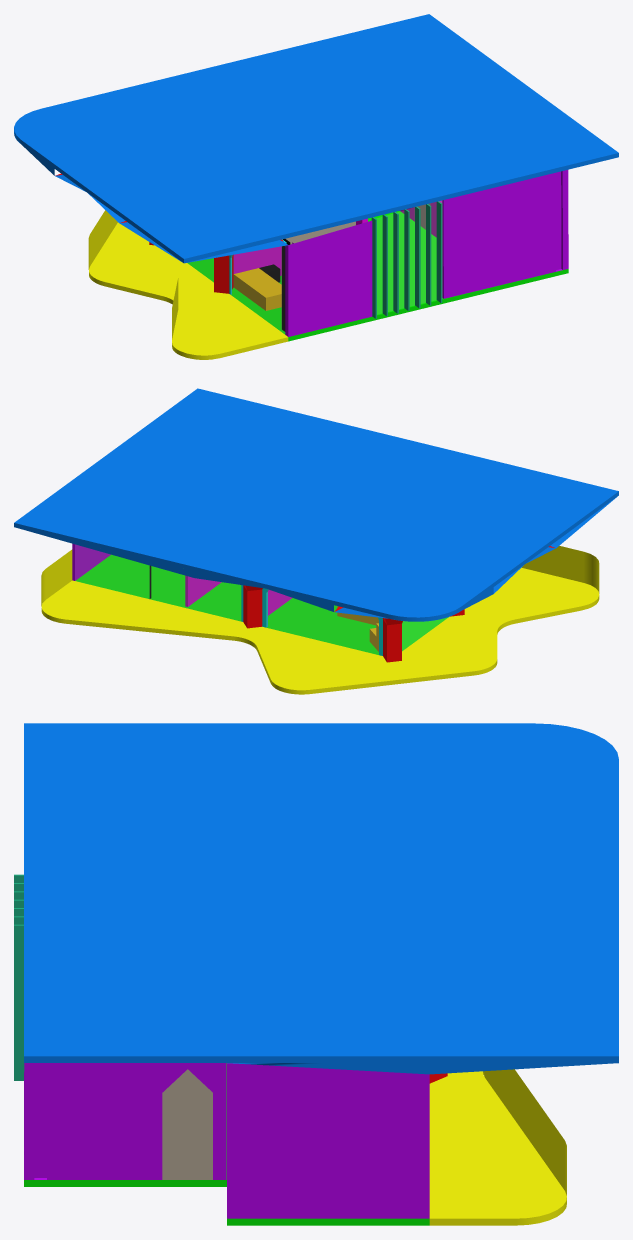
Rendered from ROOM5.glb.
3 renders of one model, top to bottom at view 1: azimuth 30°, elevation 25°; view 2: azimuth 150°, elevation 25°; view 3: azimuth 270°, elevation 25°, orthographic. The views are drawn at different scales.
Parts seen in each view (by area): view 1: top slabs, external walls, balconies, glasses, floors, FINS, internal walls, furniture, columns; view 2: top slabs, balconies, glasses, floors, columns, internal walls, external walls, furniture; view 3: top slabs, external walls, balconies, DOORS, floors, FINS.
Boxes of the visible parts, box(x1,y1,x2,y2) form: top slabs: box(14, 14, 618, 263); external walls: box(285, 170, 568, 336); balconies: box(88, 210, 288, 359); glasses: box(188, 200, 442, 333); floors: box(187, 211, 568, 341); FINS: box(371, 201, 442, 318); internal walls: box(233, 200, 441, 329); furniture: box(233, 268, 281, 310); columns: box(55, 173, 283, 293); top slabs: box(14, 388, 618, 621); balconies: box(41, 546, 599, 694); glasses: box(75, 545, 448, 655); floors: box(75, 554, 447, 654); columns: box(243, 546, 554, 662); internal walls: box(185, 575, 292, 615); external walls: box(72, 543, 110, 580); furniture: box(337, 606, 378, 651); top slabs: box(24, 723, 618, 1074); external walls: box(24, 1063, 429, 1218); balconies: box(429, 1069, 566, 1225); DOORS: box(162, 1069, 212, 1179); floors: box(24, 1063, 429, 1225); FINS: box(14, 874, 24, 1080).
Size of the model in its own units: 15.53 by 3.68 by 11.93.
